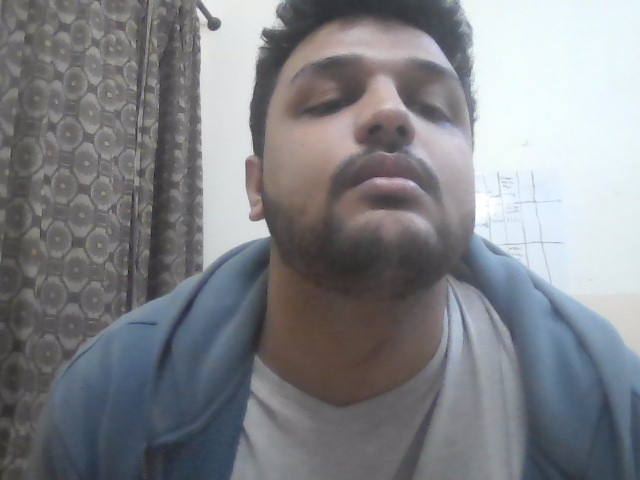awake: (198, 17, 601, 311)
